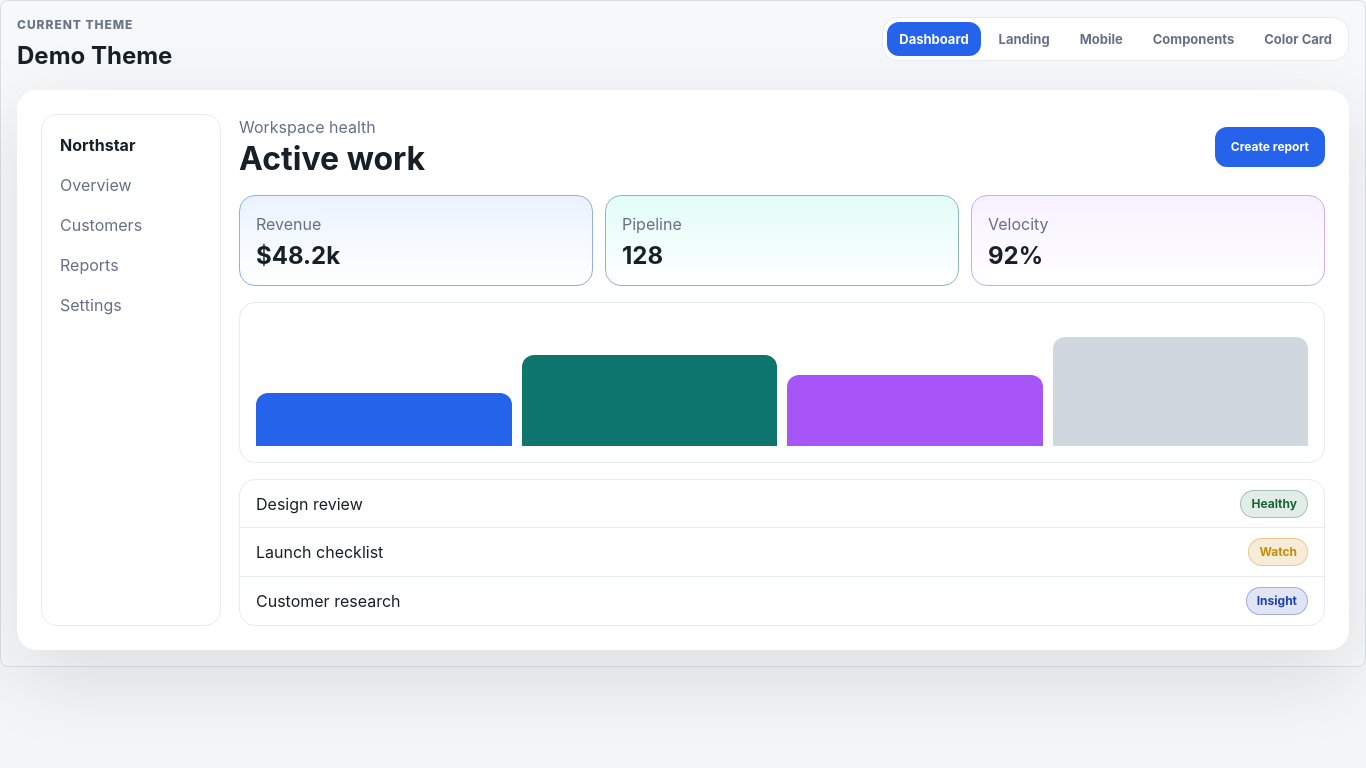
PreviewStage › switches between preview scenes
Expected: the heading "Demo Theme" is shown, [17,40,172,72]
Expected: the text "Revenue" is shown, [256,214,321,234]
Click the tab "Mobile".
click(1101, 39)  # box [1068,22,1135,56]
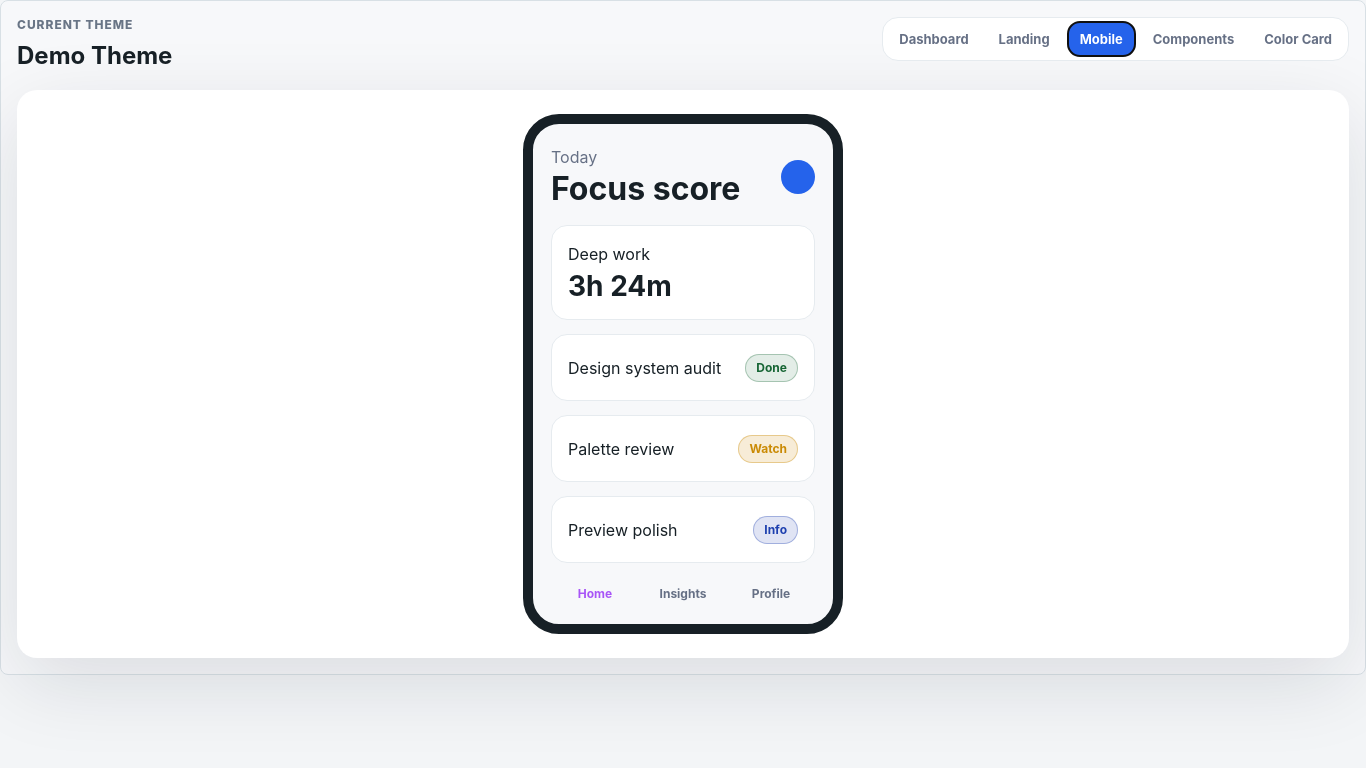
Now the heading "Focus score" is shown, box [551,168,740,208]
Click the tab "Components".
click(1193, 39)  # box [1141,22,1246,56]
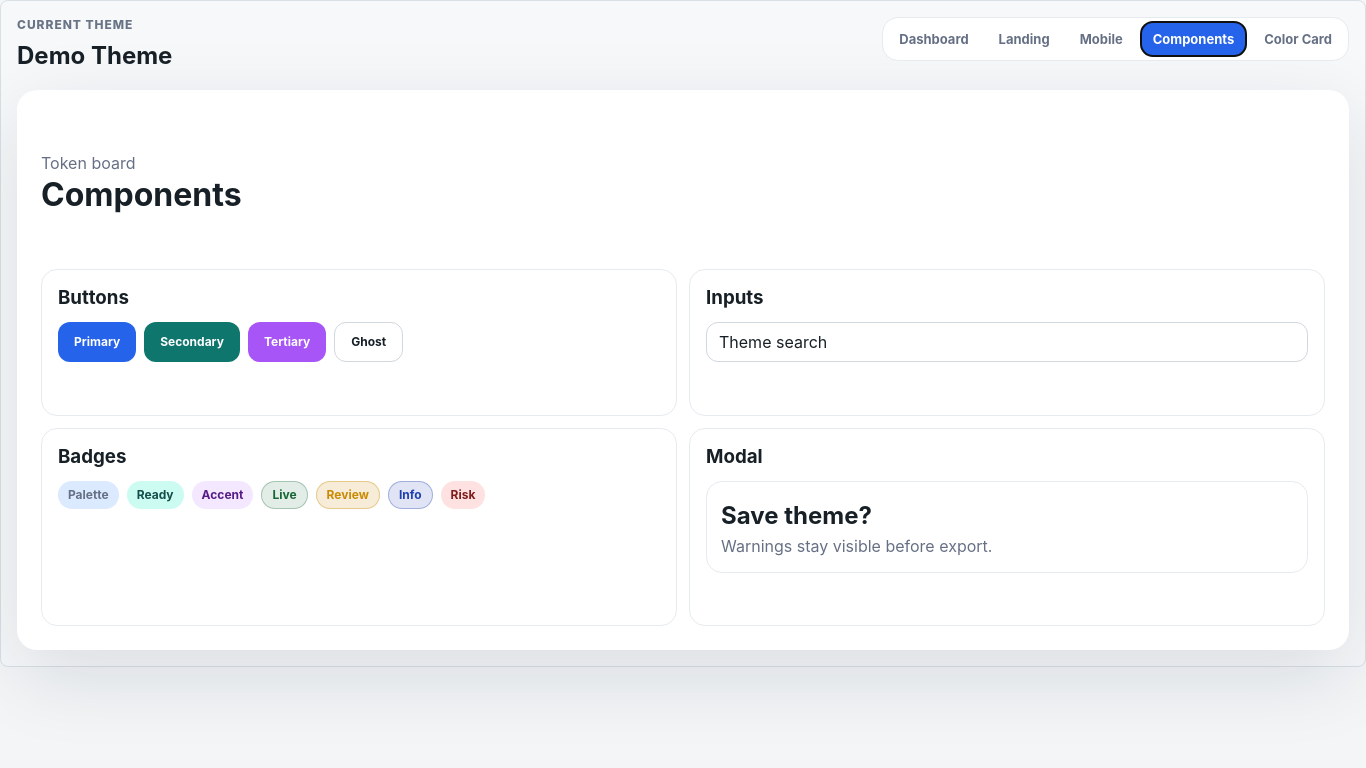
Now the heading "Buttons" is shown, box [58,286,129,309]
Click the tab "Color Card".
click(1298, 39)  # box [1252,22,1344,56]
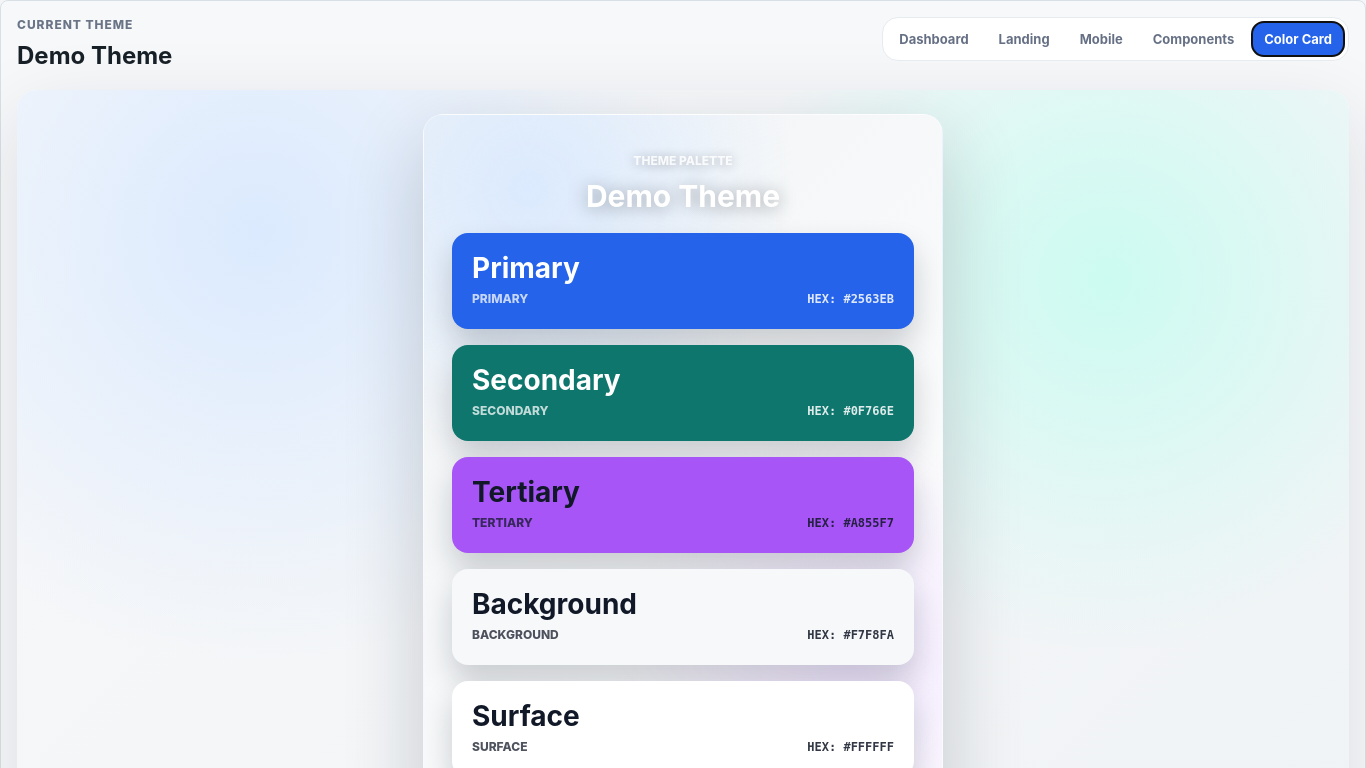
Now the text "Background" is shown, box [472,588,637,620]
Now the text "HEX: #F7F8FA" is shown, box [807,628,894,642]
